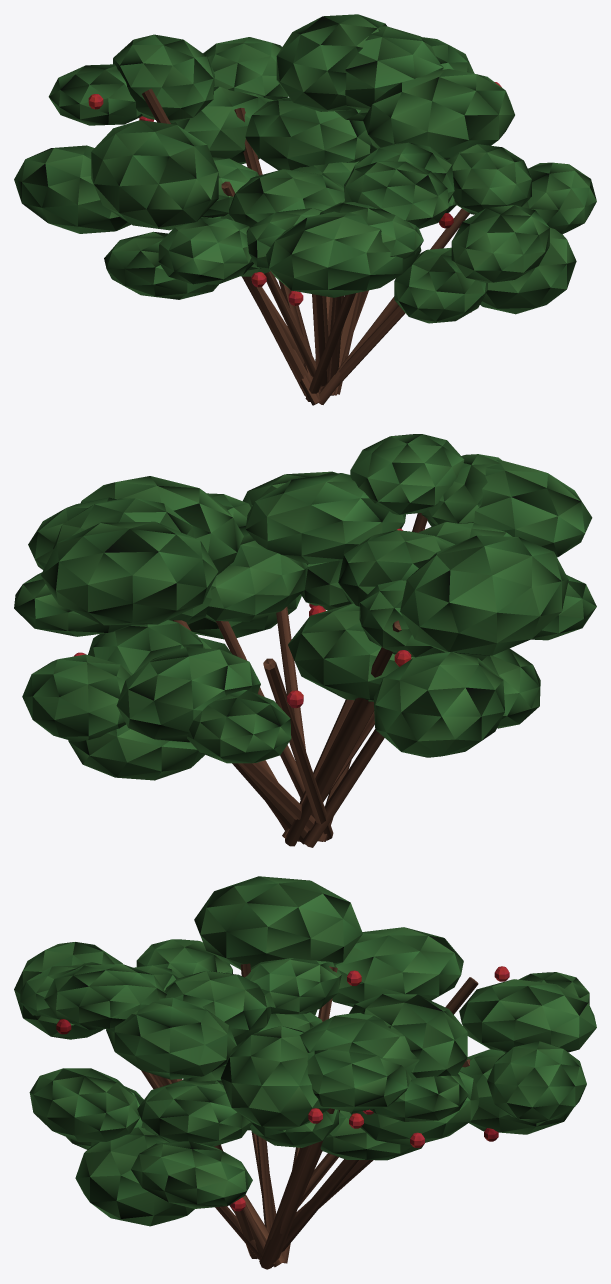
File: standard-lod0.glb
3 renders of one model, top to bottom at view 1: azimuth 30°, elevation 25°; view 2: azimuth 150°, elevation 25°; view 3: azimuth 270°, elevation 25°, orthographic. The views are drawn at different scales.
Parts seen in each view (by area): view 1: redberry-stems-leaves-fruit; view 2: redberry-stems-leaves-fruit; view 3: redberry-stems-leaves-fruit.
Part boxes in pixels (box(x1,y1,x2,y2)): redberry-stems-leaves-fruit: box(14, 14, 596, 405); redberry-stems-leaves-fruit: box(14, 434, 596, 847); redberry-stems-leaves-fruit: box(14, 876, 596, 1269).
Size of the model in its own units: 2.08 by 1.3 by 2.28.
